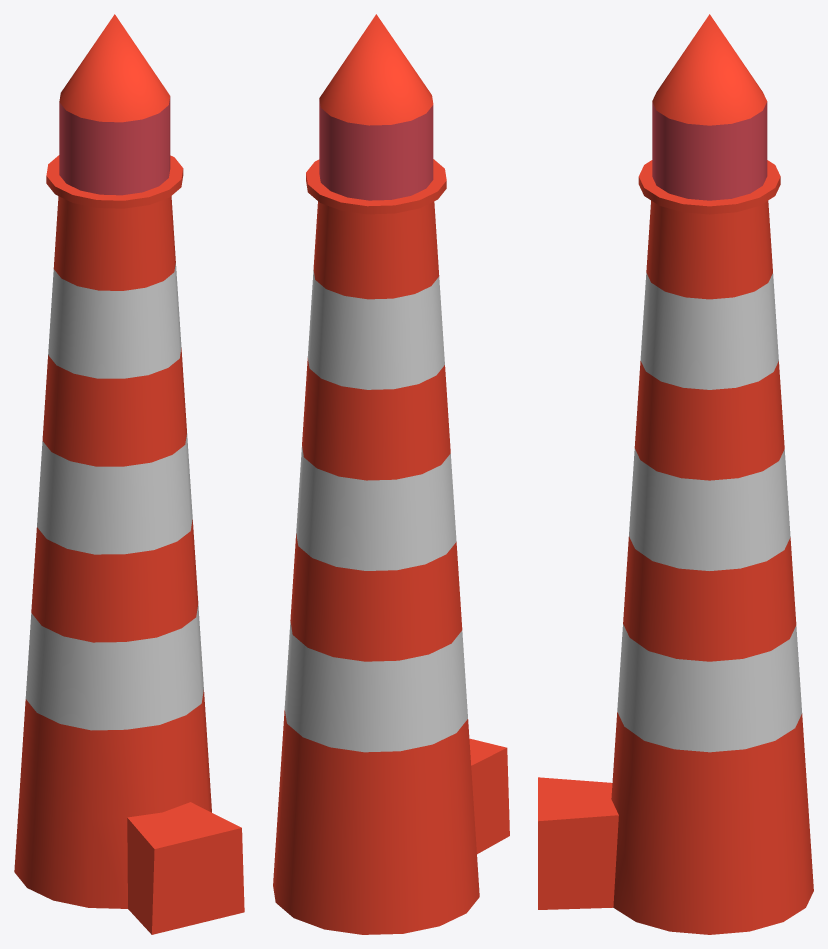
The model's file is lightHouse.fbx.
3 renders of one model, left to right at view 1: azimuth 30°, elevation 25°; view 2: azimuth 150°, elevation 25°; view 3: azimuth 270°, elevation 25°, orthographic. The views are drawn at different scales.
Parts seen in each view (by area): view 1: LightHouse; view 2: LightHouse; view 3: LightHouse.
Boxes of the visible parts, box(x1,y1,x2,y2) form: LightHouse: box(14, 14, 244, 934); LightHouse: box(273, 14, 509, 934); LightHouse: box(538, 14, 813, 934).
Bounding box in the file's own units: 50 × 232 × 66.18.
